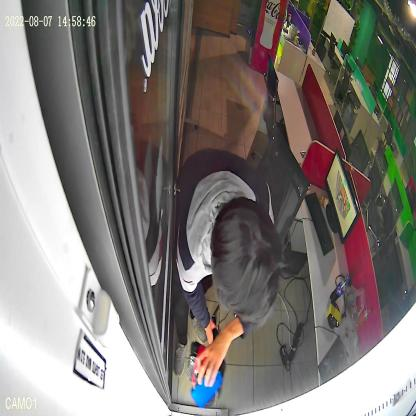blue: (190, 364, 223, 407)
red: (186, 340, 226, 385)
